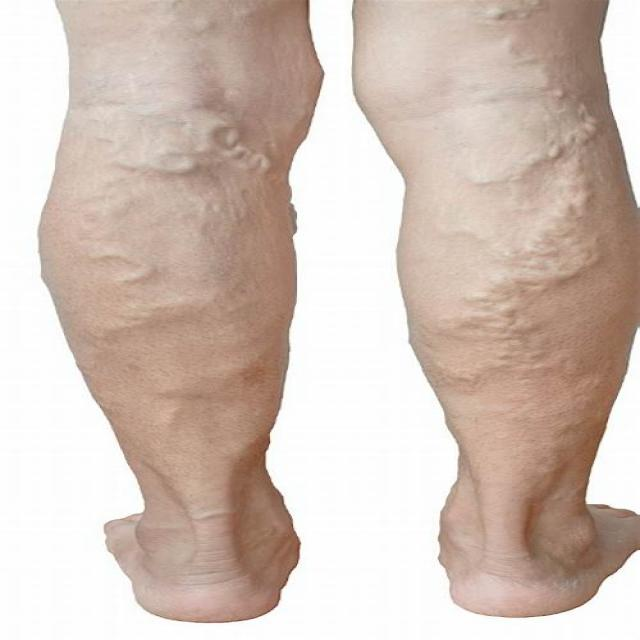Varicose: (35, 42, 592, 494)
